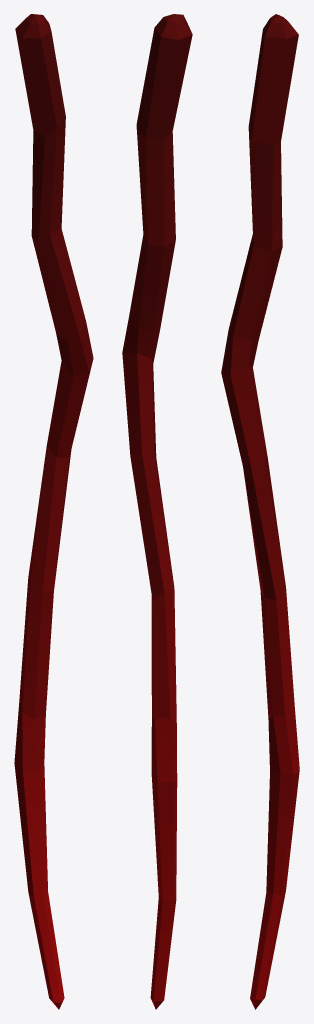
Rendered from SM_Env_Vines_04.gltf.
3 views of the same model, side by side, from view 1: azimuth 90°, elevation 25°; view 2: azimuth 210°, elevation 25°; view 3: azimuth 270°, elevation 25° (orthographic).
Visible parts, largest first — view 1: SM_Env_Vines_04; view 2: SM_Env_Vines_04; view 3: SM_Env_Vines_04.
Boxes of the visible parts, x1,y1,x2,y2 form: SM_Env_Vines_04: [14, 14, 93, 1009]; SM_Env_Vines_04: [122, 14, 192, 1009]; SM_Env_Vines_04: [221, 14, 299, 1009].
Size of the model in its own units: 0.2385 by 4.91 by 0.3527.
